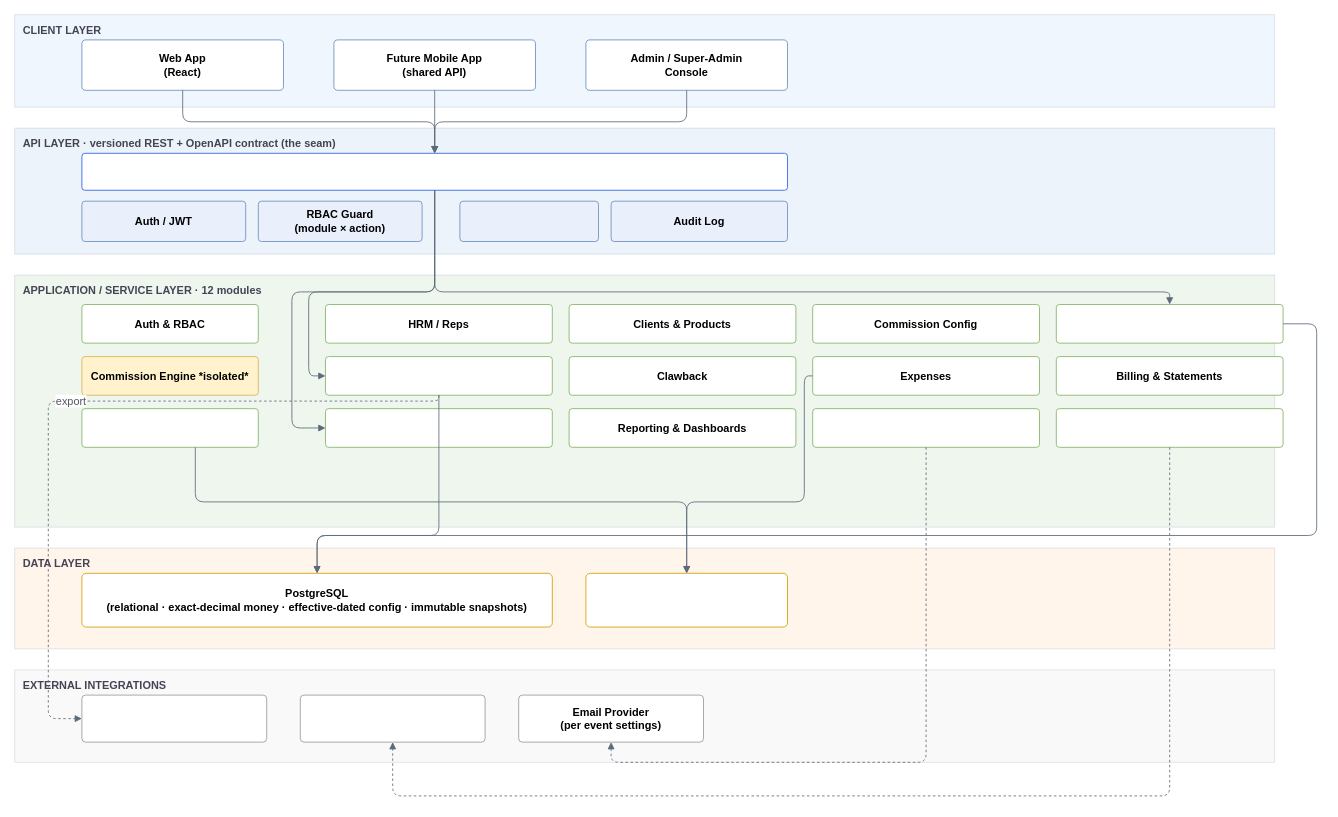
Image size: 1338x817. Some labels were removed from this diagram. Here are the shapes that lost their labels. From the top down, the centre of each, then its label:
the point at 434,171: Versioned REST API /v1 (OpenAPI-described contract)
the point at 528,221: Validation
the point at 1169,323: Sales & Validation
the point at 438,375: Pay Run & Holdback
the point at 169,427: Documents & E-Sign
the point at 438,427: Data Import & Integration
the point at 926,427: Notifications
the point at 1169,427: Chatbot (integrated)
the point at 686,599: Object Storage (receipts · signed docs · exports · import files)
the point at 174,718: ADP Export (configurable)
the point at 392,718: Google Gemini (chatbot)
